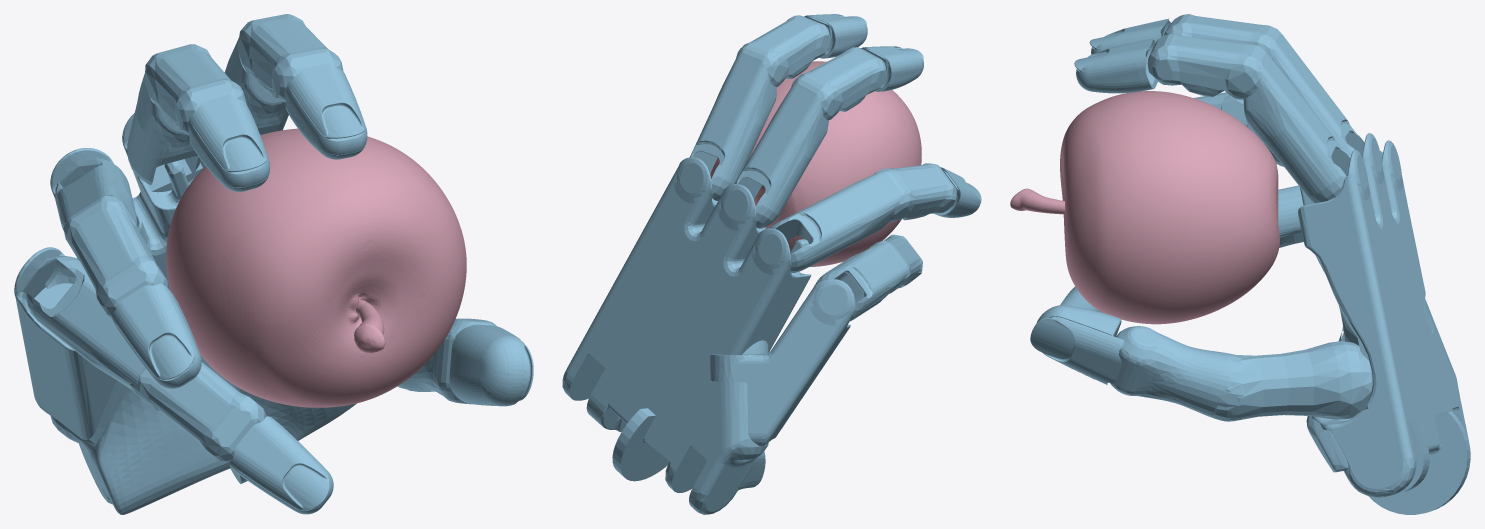
The picture shows the model from 3 angles, left to right: view 1: azimuth 30°, elevation 25°; view 2: azimuth 150°, elevation 25°; view 3: azimuth 270°, elevation 25°; orthographic projection. The views are drawn at different scales.
Parts seen in each view (by area): view 1: world, apple.stl; view 2: world, apple.stl; view 3: world, apple.stl.
Part boxes in pixels (x1,y1,x2,y2): world: [14, 14, 533, 514]; apple.stl: [166, 128, 466, 407]; world: [562, 14, 981, 514]; apple.stl: [710, 61, 921, 266]; world: [1030, 14, 1470, 514]; apple.stl: [1010, 91, 1279, 324].
Bounding box in the file's own units: 0.1233 × 0.1636 × 0.1508.
